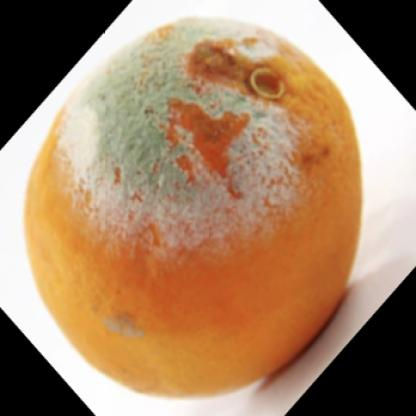rotten: (22, 19, 362, 395)
